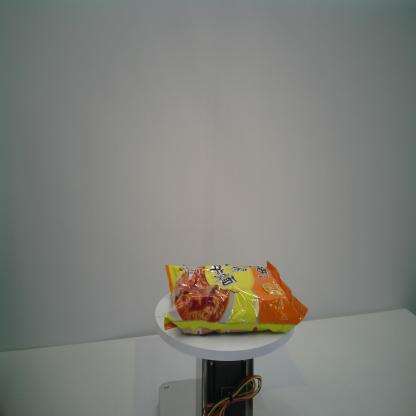Instant Noodles: (164, 261, 308, 337)
